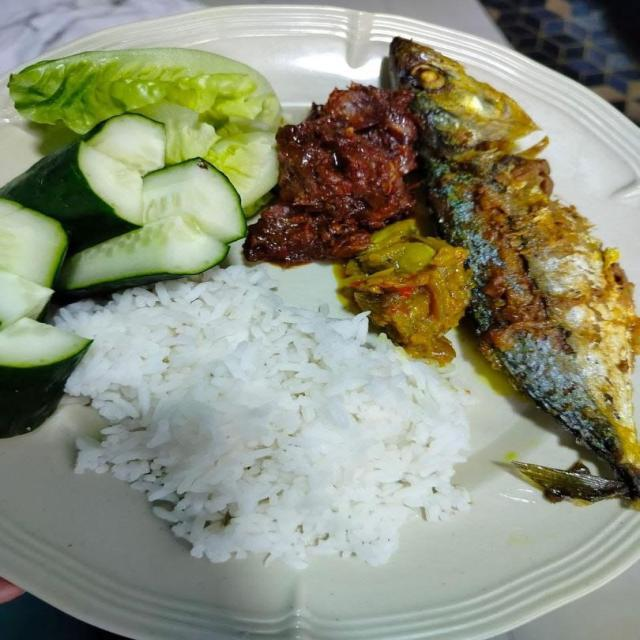Fish: (381, 37, 639, 506)
Plate: (0, 394, 639, 639)
Rice: (49, 276, 477, 568)
Vegetables: (0, 46, 289, 452)
